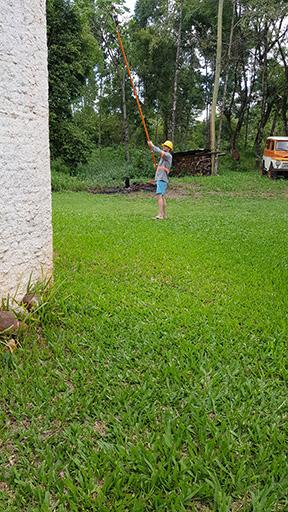Vara_Manobra: (113, 26, 156, 171)
